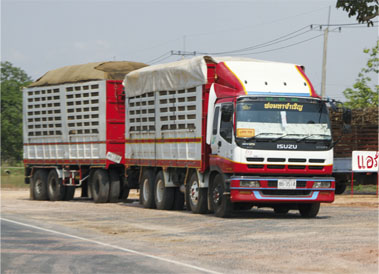truck: (21, 55, 336, 218)
